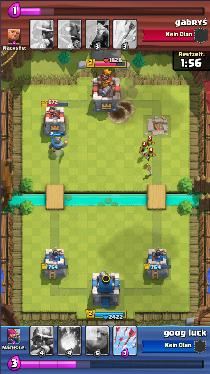ally_knight: (48, 137, 68, 153)
enemy_goblin: (146, 149, 156, 160), (145, 138, 155, 147), (139, 144, 148, 154)
